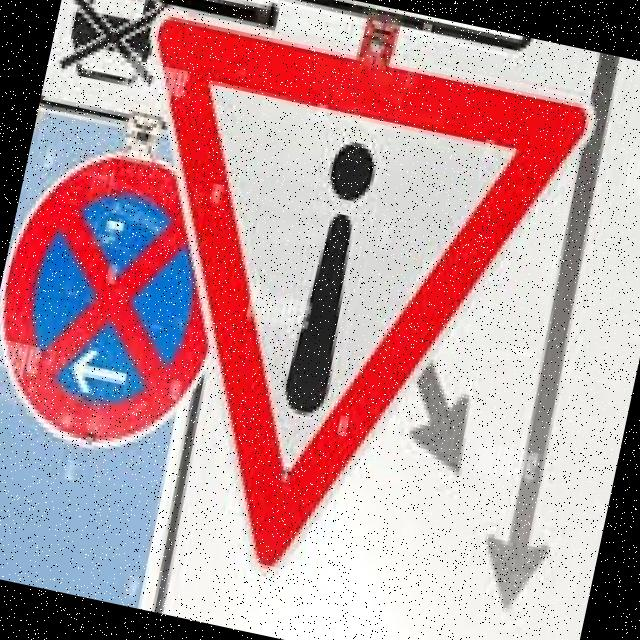warning: (49, 4, 614, 630)
